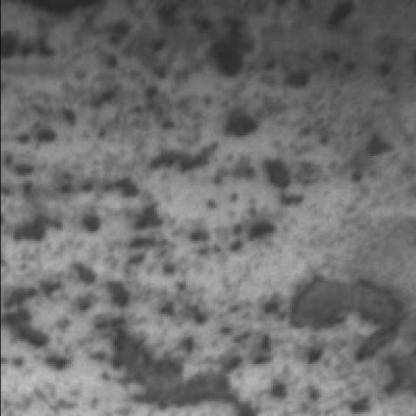patches: (281, 272, 409, 364), (102, 333, 239, 414)
pitted_surface: (0, 2, 264, 376), (143, 4, 391, 258)
